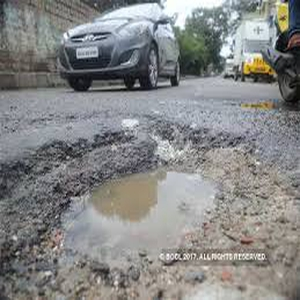pothole: (1, 127, 274, 300)
